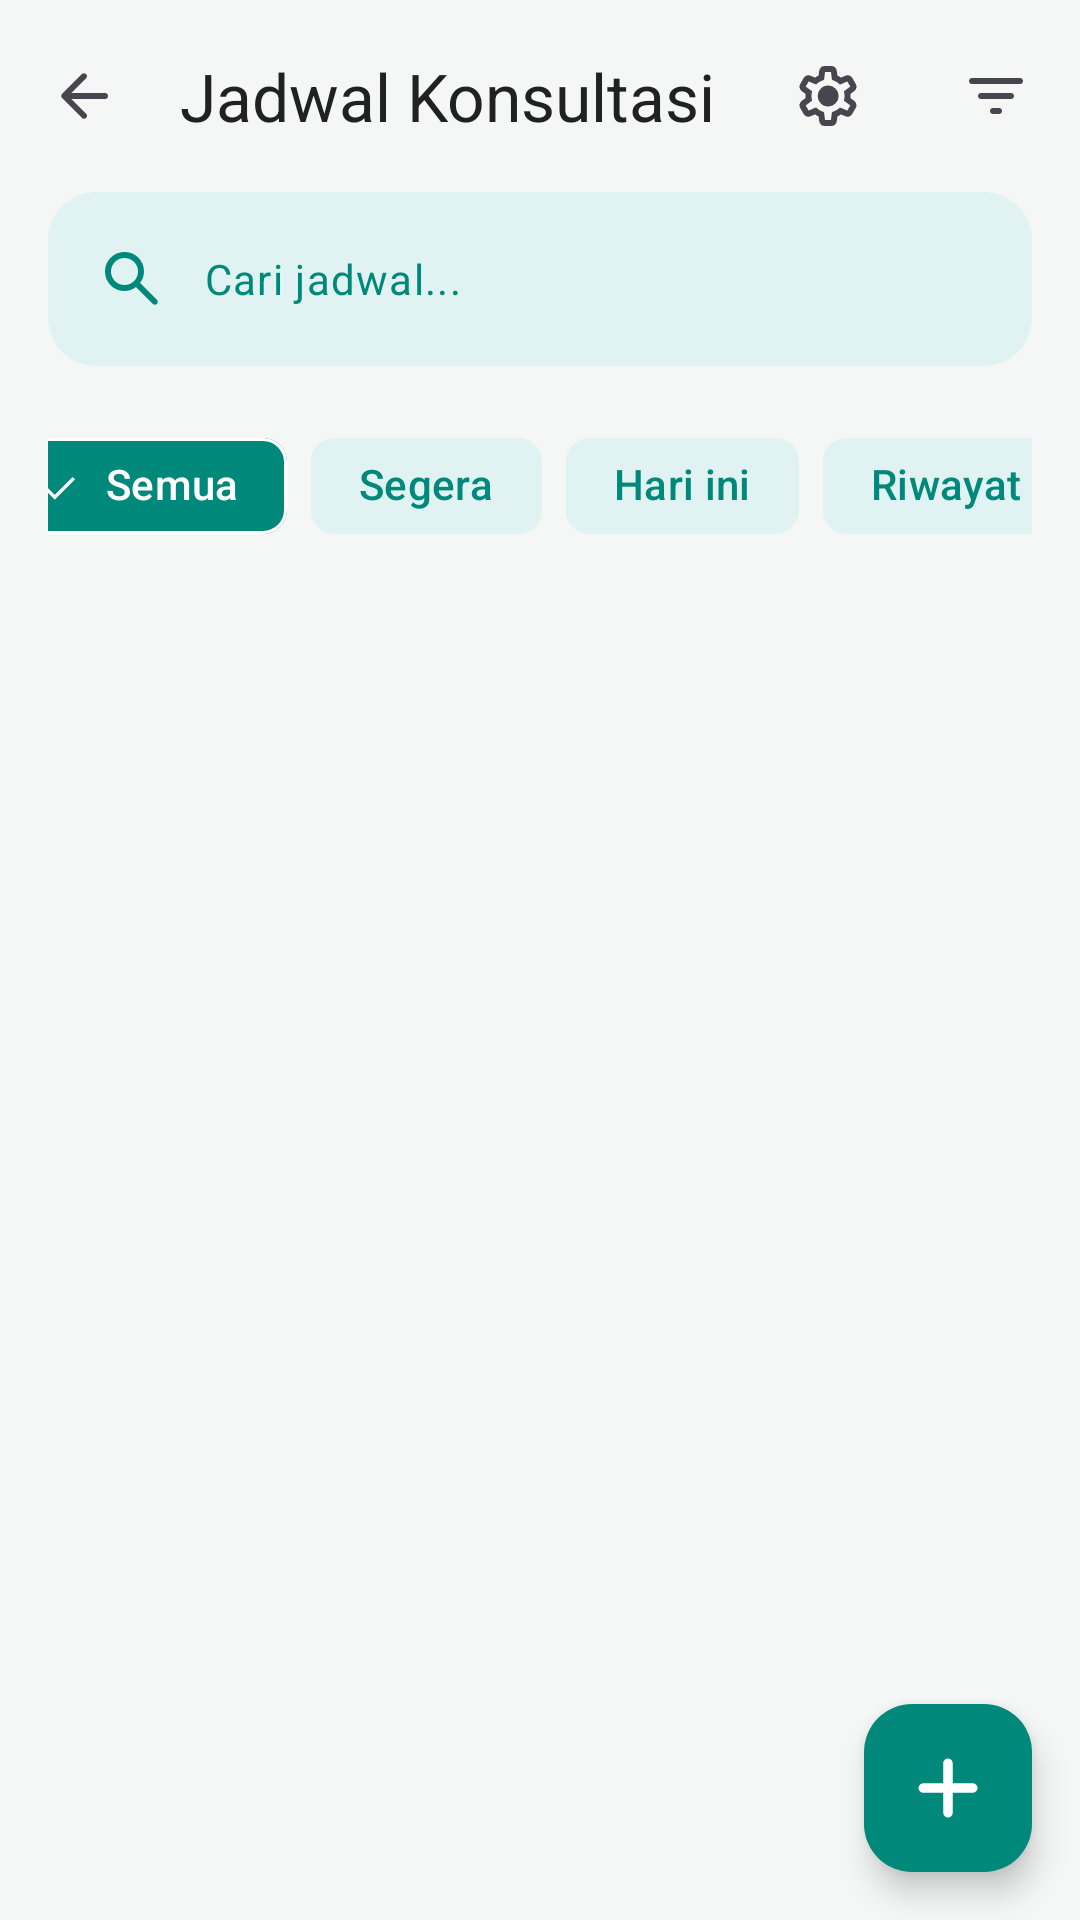

Named icons in this screenshot (1080 × 1920) and their centers, (x,y):
add: (948,1788)
settings: (828,96)
Urutkan: (996,96)
